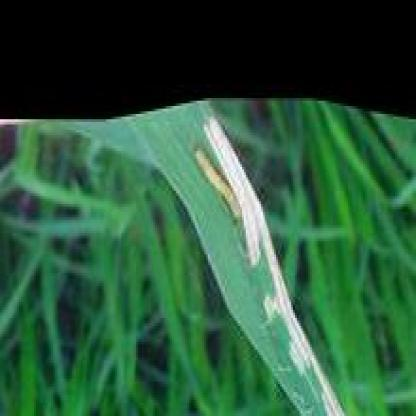leaf-folder: (177, 148, 245, 236)
